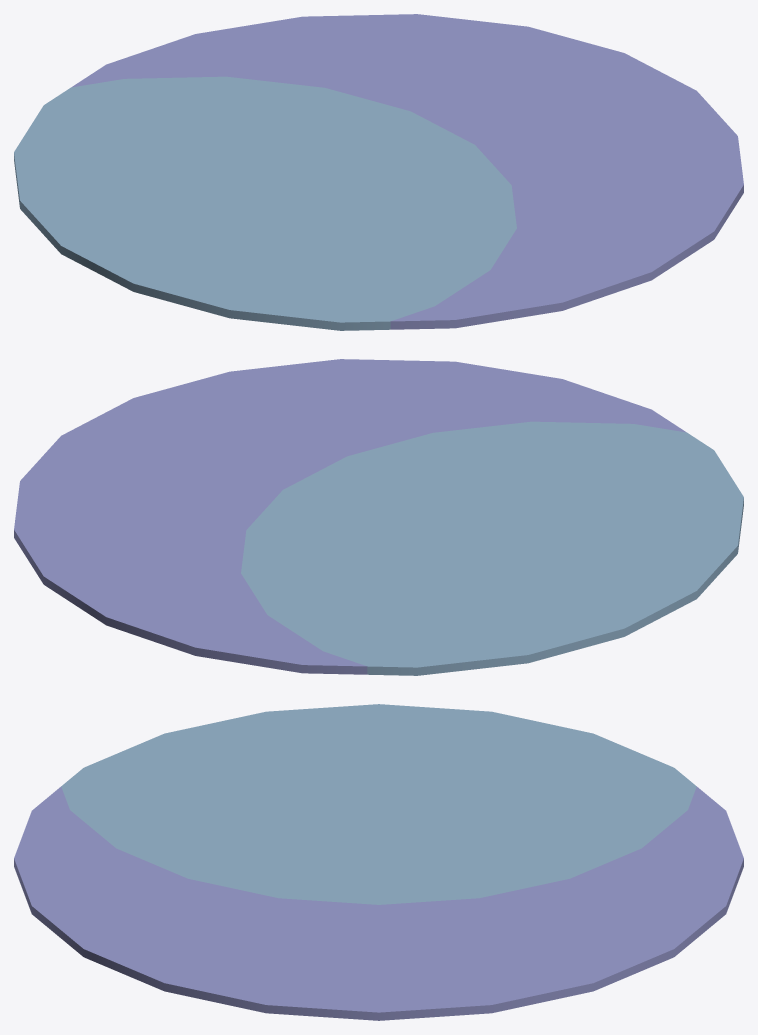
The model's file is carpet-round-large-moon.glb.
3 renders of one model, top to bottom at view 1: azimuth 30°, elevation 25°; view 2: azimuth 150°, elevation 25°; view 3: azimuth 270°, elevation 25°, orthographic.
Visible parts, largest first — view 1: carpet-round-large-moon; view 2: carpet-round-large-moon; view 3: carpet-round-large-moon.
Part boxes in pixels (x1,y1,x2,y2): carpet-round-large-moon: (14,14,743,330); carpet-round-large-moon: (14,359,743,675); carpet-round-large-moon: (14,704,743,1020).
Size of the model in its own units: 2 by 0.025 by 2.
